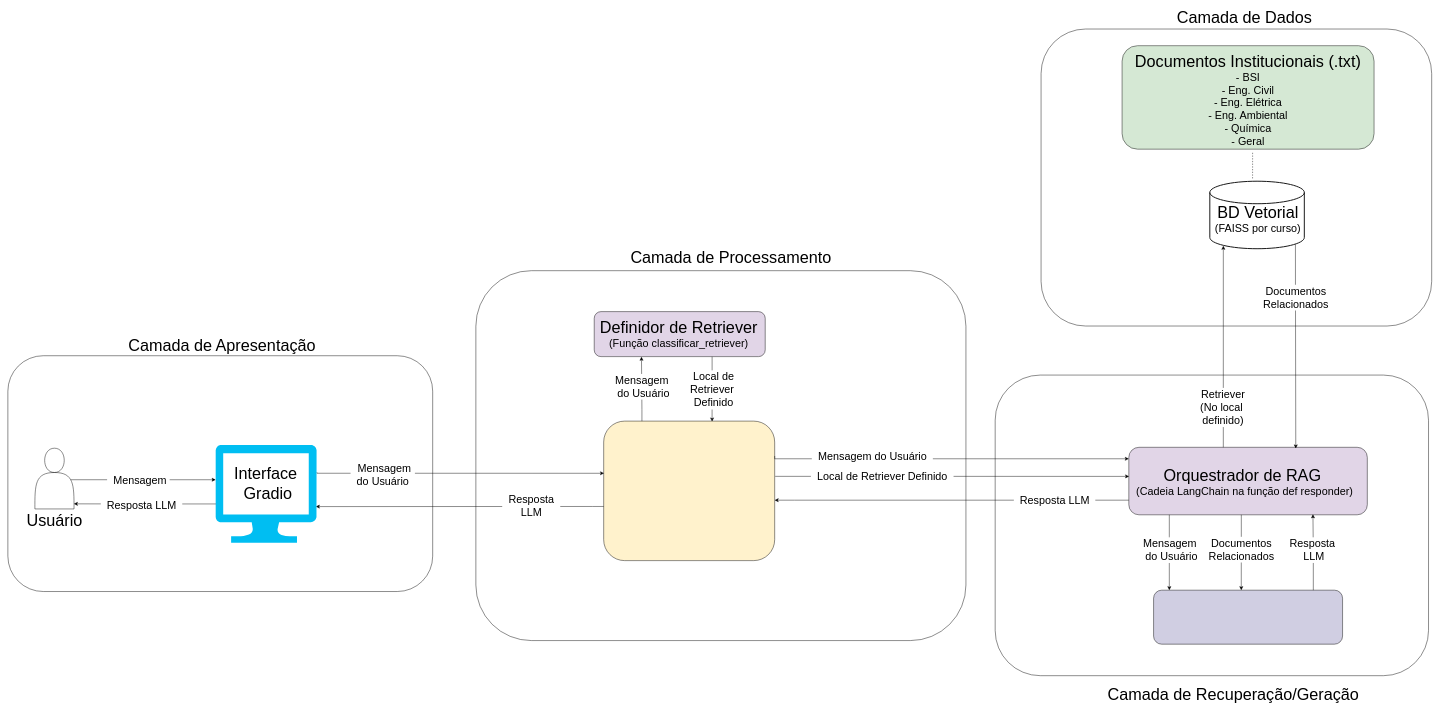
This 1440x711 diagram has some shape labels left out. Here are the shapes that lost their labels. From the top down, the box of each, then its label:
(603, 421, 775, 561): Módulo de Processamento (Função def_responder)
(1153, 590, 1343, 644): OpenAI API (LLM)
